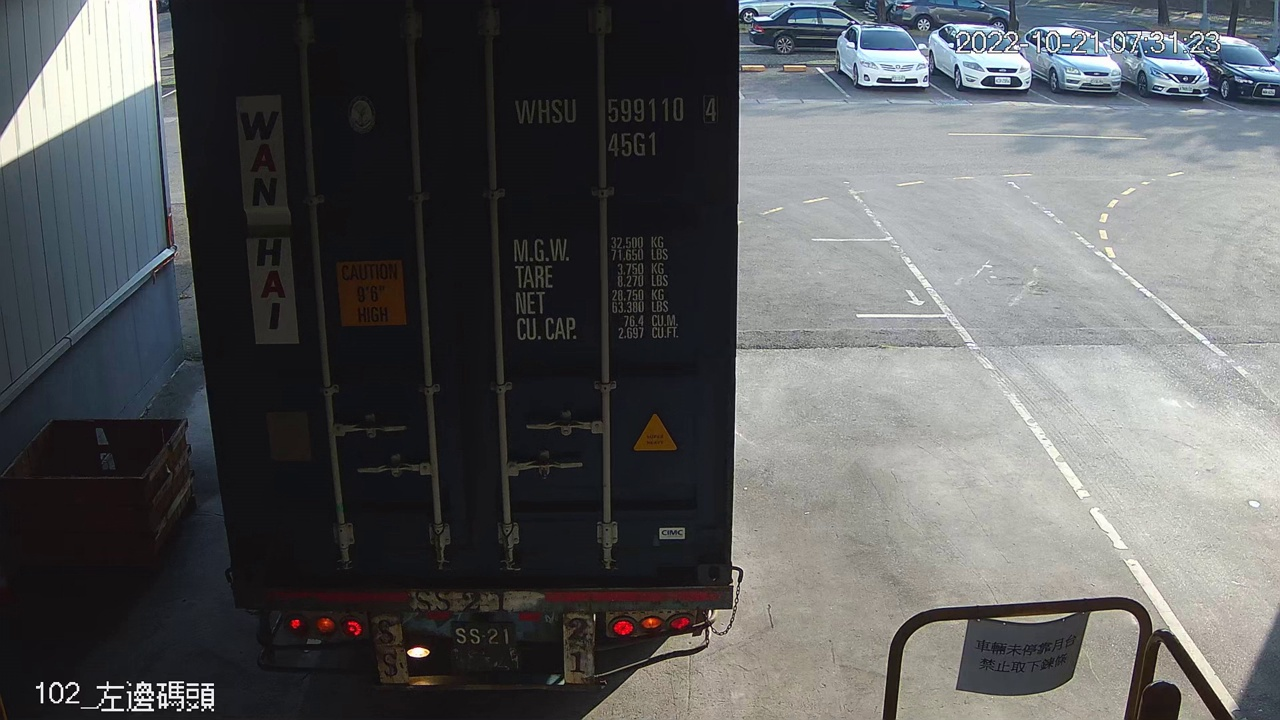container: (504, 80, 728, 167)
